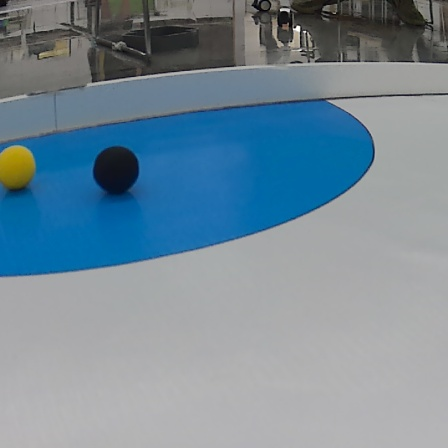black: (97, 144, 141, 192)
blue_base: (0, 97, 383, 275)
yellow: (0, 144, 41, 193)
